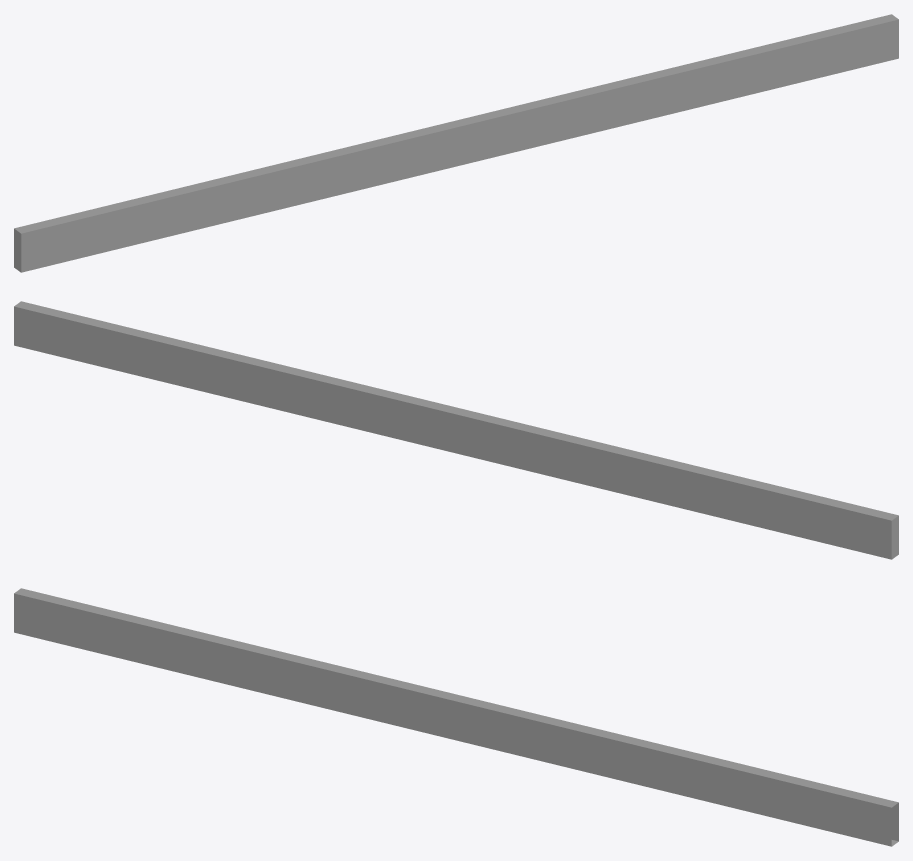
The model's file is plintus_0_lev1_lev3.glb.
3 views of the same model, one above another, from view 1: azimuth 30°, elevation 25°; view 2: azimuth 150°, elevation 25°; view 3: azimuth 330°, elevation 25° (orthographic).
Parts seen in each view (by area): view 1: plintus_0_lev1_lev3; view 2: plintus_0_lev1_lev3; view 3: plintus_0_lev1_lev3.
Boxes of the visible parts, x1=… form: plintus_0_lev1_lev3: x1=14, y1=14, x2=898, y2=272; plintus_0_lev1_lev3: x1=14, y1=301, x2=898, y2=559; plintus_0_lev1_lev3: x1=14, y1=588, x2=898, y2=846.
Size of the model in its own units: 5.27 by 0.2242 by 0.0747.
1 material, 1 textured.
